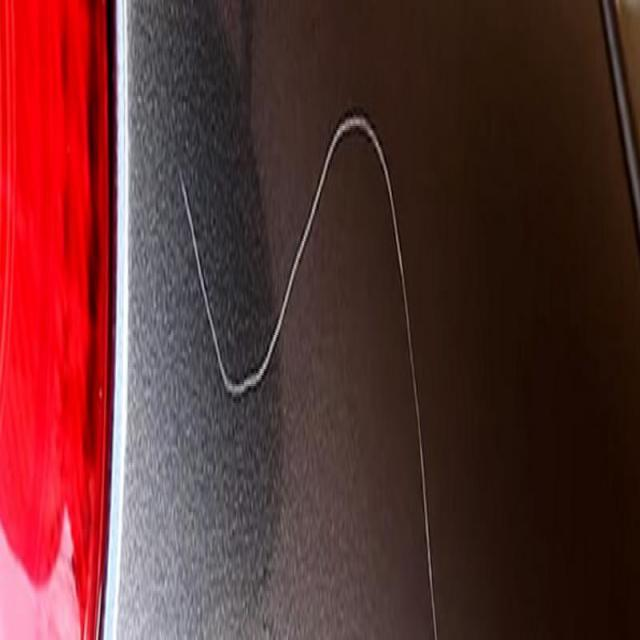scratch: (154, 53, 439, 640)
